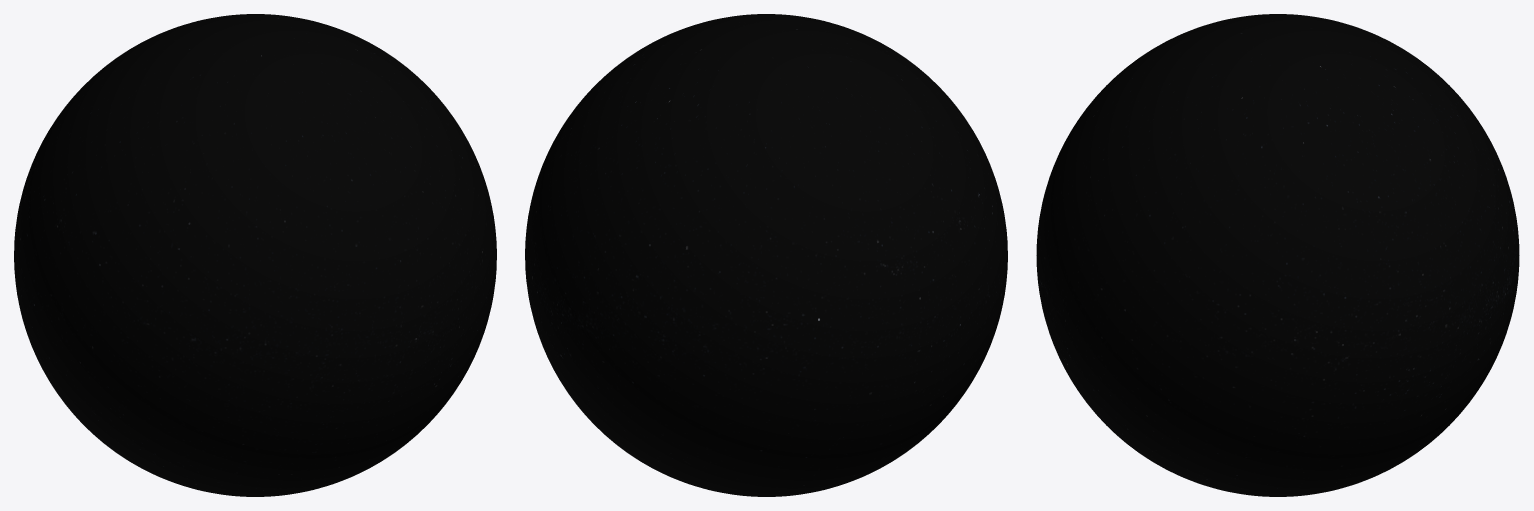
The model's file is space.glb.
The picture shows the model from 3 angles, left to right: view 1: azimuth 30°, elevation 25°; view 2: azimuth 150°, elevation 25°; view 3: azimuth 270°, elevation 25°; orthographic projection.
Visible parts, largest first — view 1: Sphere; view 2: Sphere; view 3: Sphere.
Boxes of the visible parts, x1=… form: Sphere: x1=14, y1=14, x2=496, y2=496; Sphere: x1=525, y1=14, x2=1007, y2=496; Sphere: x1=1036, y1=14, x2=1519, y2=496.
Bounding box in the file's own units: 300 × 300 × 300.
1 material, 1 textured.
